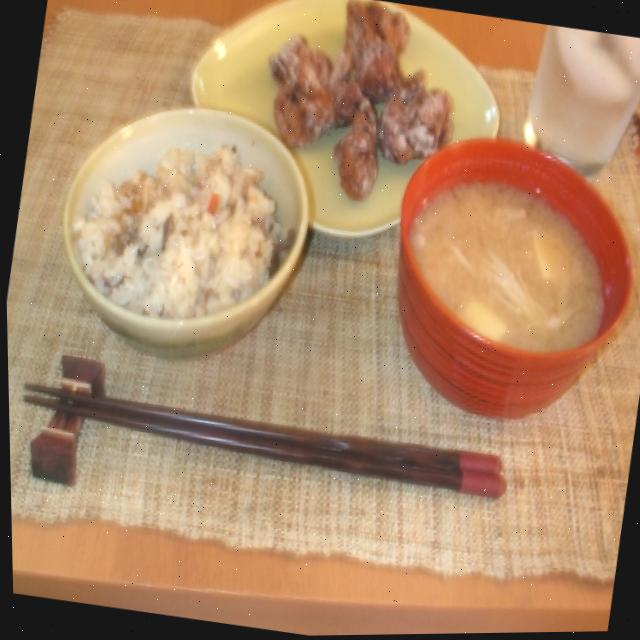汤锅炖物: (366, 113, 640, 383)
米饭主食: (41, 76, 329, 344)
鸡肉料理 含炸鸡: (219, 0, 490, 249)
